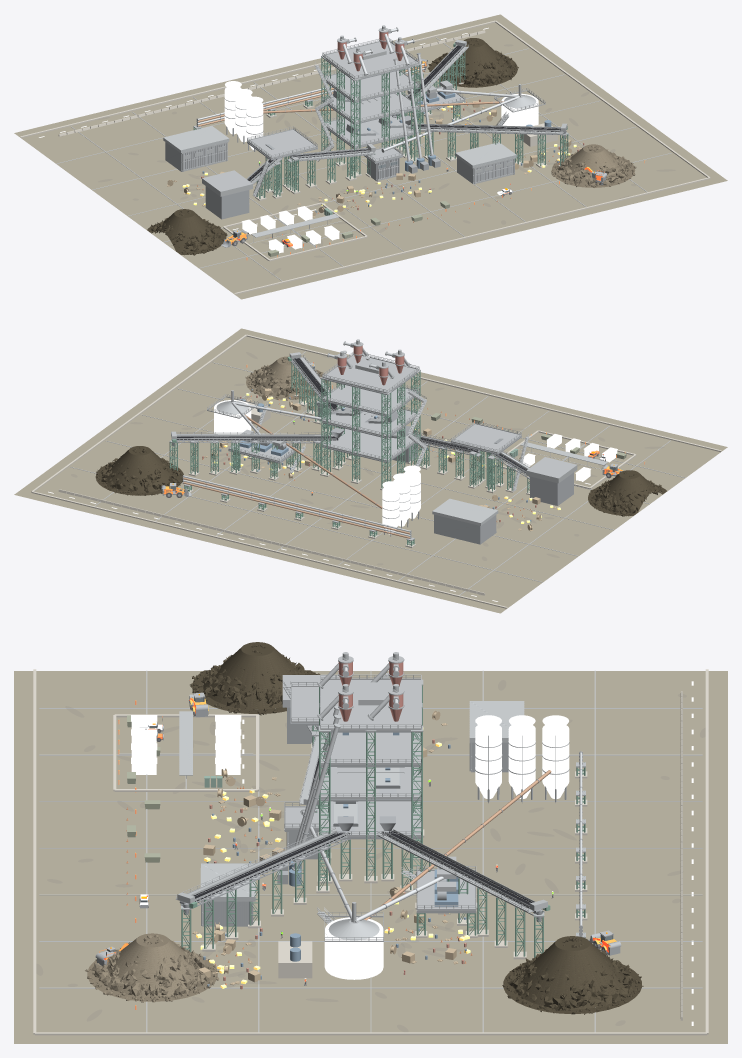
File: dmsplant.glb
3 renders of one model, top to bottom at view 1: azimuth 30°, elevation 25°; view 2: azimuth 150°, elevation 25°; view 3: azimuth 270°, elevation 25°, orthographic. The views are drawn at different scales.
Visible parts, largest first — view 1: structure/mat_8b8166_48, galv/galv, structure/green, structure/concrete, structure/seam, structure/steelD, structure/oreRich, structure/pipeM, structure/roof, scree/oreRich, structure/silo, structure/clad (+8 smaller); view 2: structure/mat_8b8166_48, galv/galv, structure/green, structure/concrete, structure/oreRich, structure/steelD, structure/seam, scree/oreRich, structure/silo, structure/pipeM, structure/roof, structure/pipeR (+10 smaller); view 3: structure/mat_8b8166_48, galv/galv, structure/concrete, structure/oreRich, structure/green, structure/seam, structure/silo, scree/oreRich, structure/waste, structure/steelD, structure/roof, scree/stain (+14 smaller).
Boxes of the visible parts, x1=… form: structure/mat_8b8166_48: x1=14, y1=14, x2=727, y2=299; galv/galv: x1=181, y1=25, x2=568, y2=242; structure/green: x1=193, y1=43, x2=568, y2=198; structure/concrete: x1=20, y1=20, x2=710, y2=294; structure/seam: x1=56, y1=37, x2=671, y2=281; structure/steelD: x1=205, y1=48, x2=566, y2=219; structure/oreRich: x1=147, y1=38, x2=517, y2=254; structure/pipeM: x1=198, y1=28, x2=519, y2=160; structure/roof: x1=163, y1=126, x2=516, y2=237; scree/oreRich: x1=148, y1=39, x2=518, y2=255; structure/silo: x1=224, y1=81, x2=263, y2=149; structure/clad: x1=165, y1=142, x2=514, y2=183; structure/mat_8b8166_48: x1=14, y1=328, x2=727, y2=613; galv/galv: x1=169, y1=339, x2=605, y2=540; structure/green: x1=169, y1=356, x2=529, y2=546; structure/concrete: x1=31, y1=334, x2=721, y2=608; structure/oreRich: x1=95, y1=446, x2=666, y2=515; structure/steelD: x1=171, y1=360, x2=573, y2=533; structure/seam: x1=70, y1=351, x2=685, y2=595; scree/oreRich: x1=96, y1=447, x2=665, y2=516; structure/silo: x1=382, y1=465, x2=420, y2=534; structure/pipeM: x1=183, y1=342, x2=409, y2=536; structure/roof: x1=316, y1=389, x2=607, y2=525; structure/pipeR: x1=183, y1=415, x2=409, y2=538; structure/mat_8b8166_48: x1=14, y1=671, x2=727, y2=1043; galv/galv: x1=176, y1=652, x2=585, y2=941; structure/concrete: x1=33, y1=669, x2=708, y2=1035; structure/oreRich: x1=192, y1=642, x2=641, y2=1013; structure/green: x1=181, y1=684, x2=585, y2=957; structure/seam: x1=39, y1=670, x2=702, y2=1032; structure/silo: x1=475, y1=715, x2=569, y2=798; scree/oreRich: x1=190, y1=644, x2=643, y2=1014; structure/waste: x1=87, y1=933, x2=217, y2=1001; structure/steelD: x1=180, y1=685, x2=582, y2=921; structure/roof: x1=179, y1=701, x2=524, y2=901; scree/stain: x1=37, y1=680, x2=704, y2=1031.
Bounding box in the file's own units: 210 × 49.46 × 170.
Materials: 46 (8 with a texture image).
